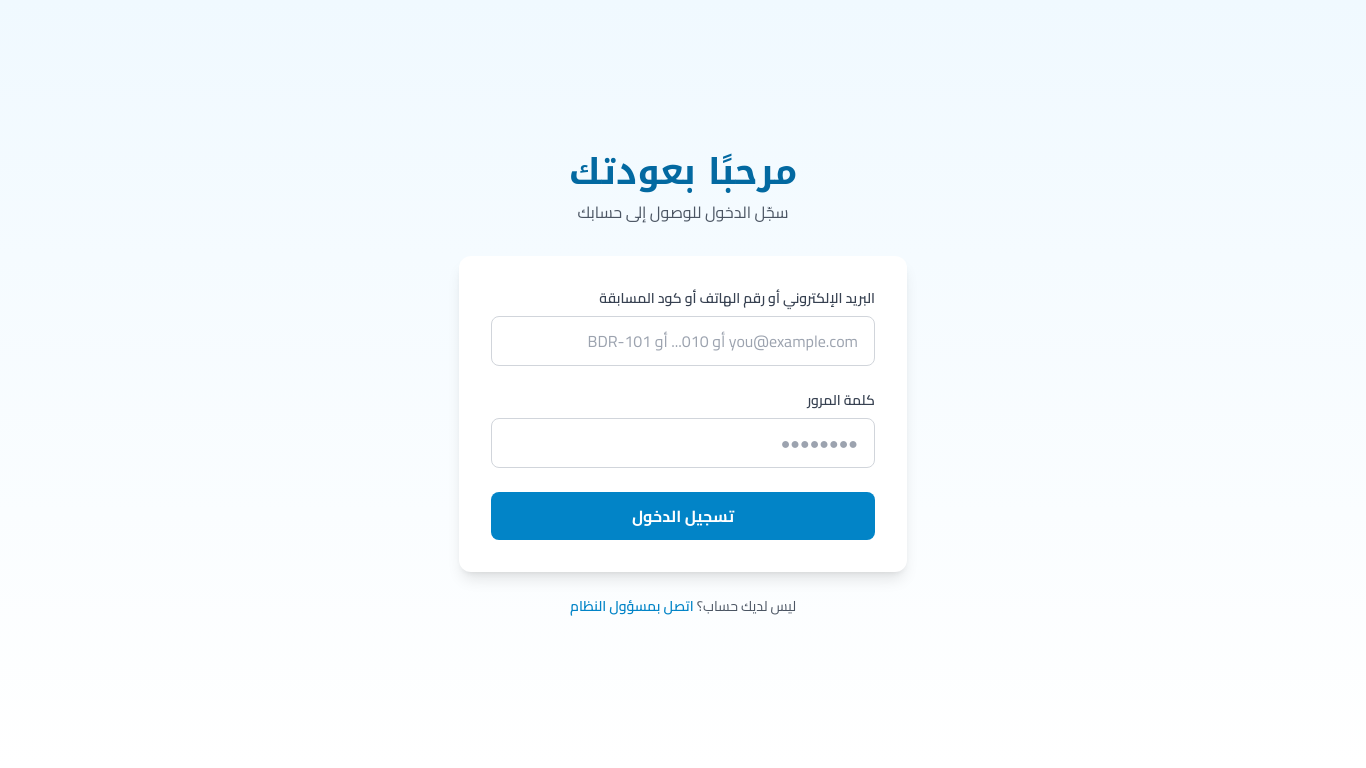
Test case: LoginPage › should display error message on login failure
The width and height of the screenshot is (1366, 768).
Type "wrong@example.com" into the field labelled "البريد الإلكتروني أو رقم الهاتف أو كود المسابقة".
click(683, 341); type("wrong@example.com")  # box [491,316,875,366]
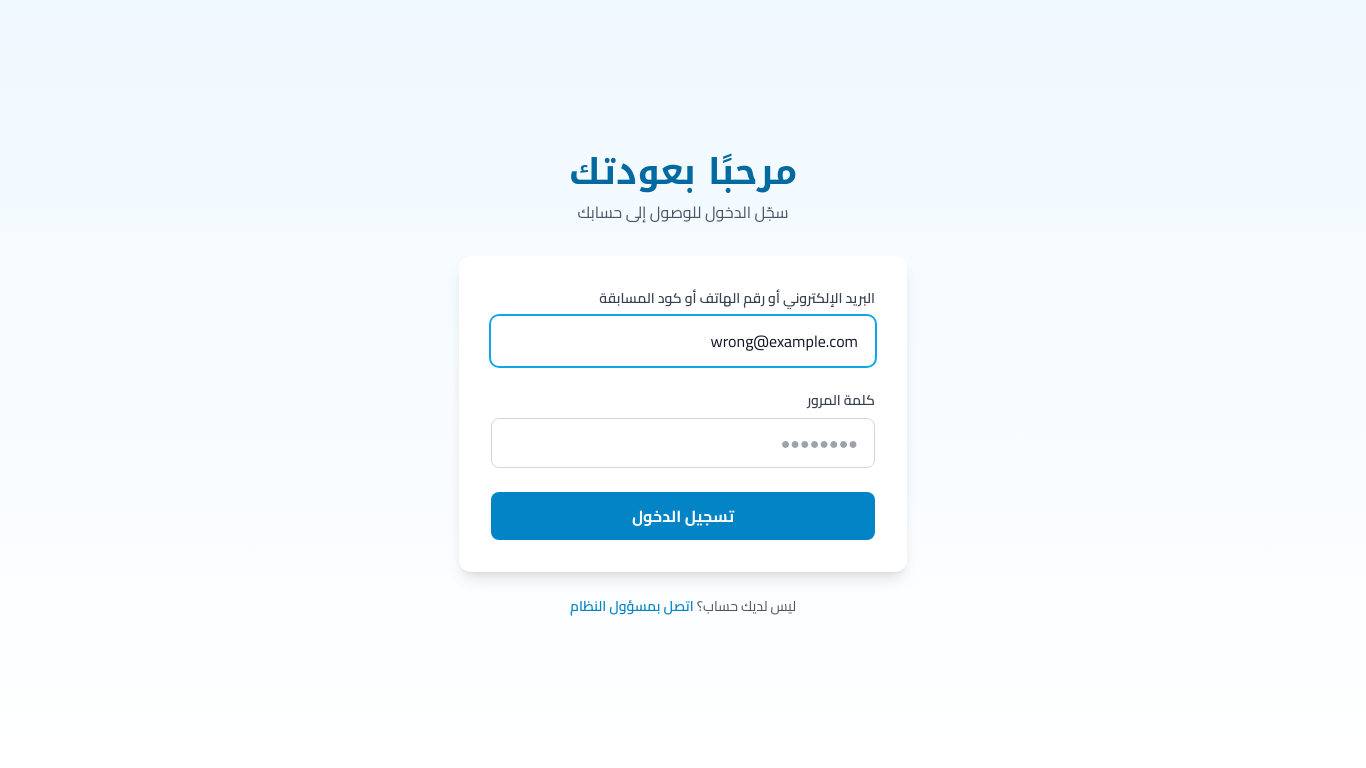
Type "wrongpass" into the password field labelled "كلمة المرور".
click(683, 443); type("wrongpass")  # box [491,418,875,468]
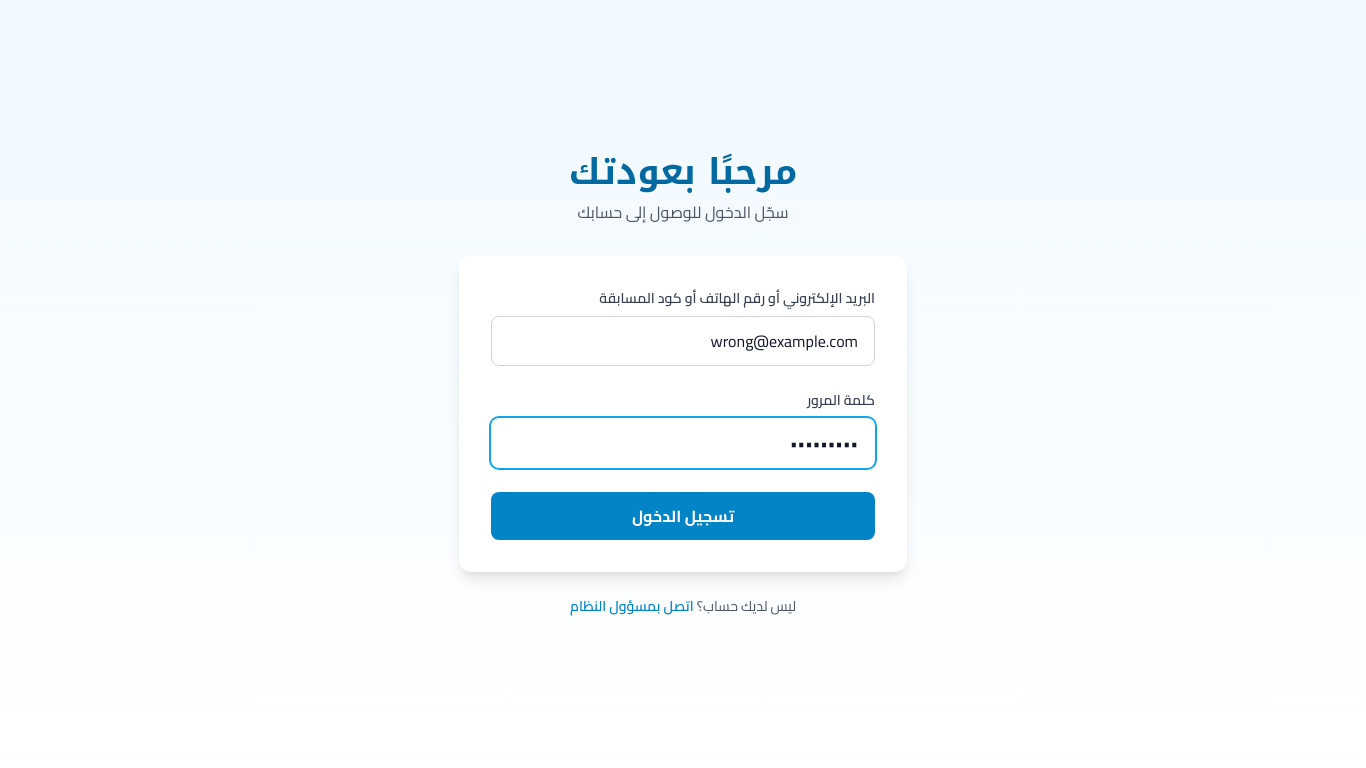
Click the button "تسجيل الدخول".
click(683, 516)  # box [491,492,875,540]
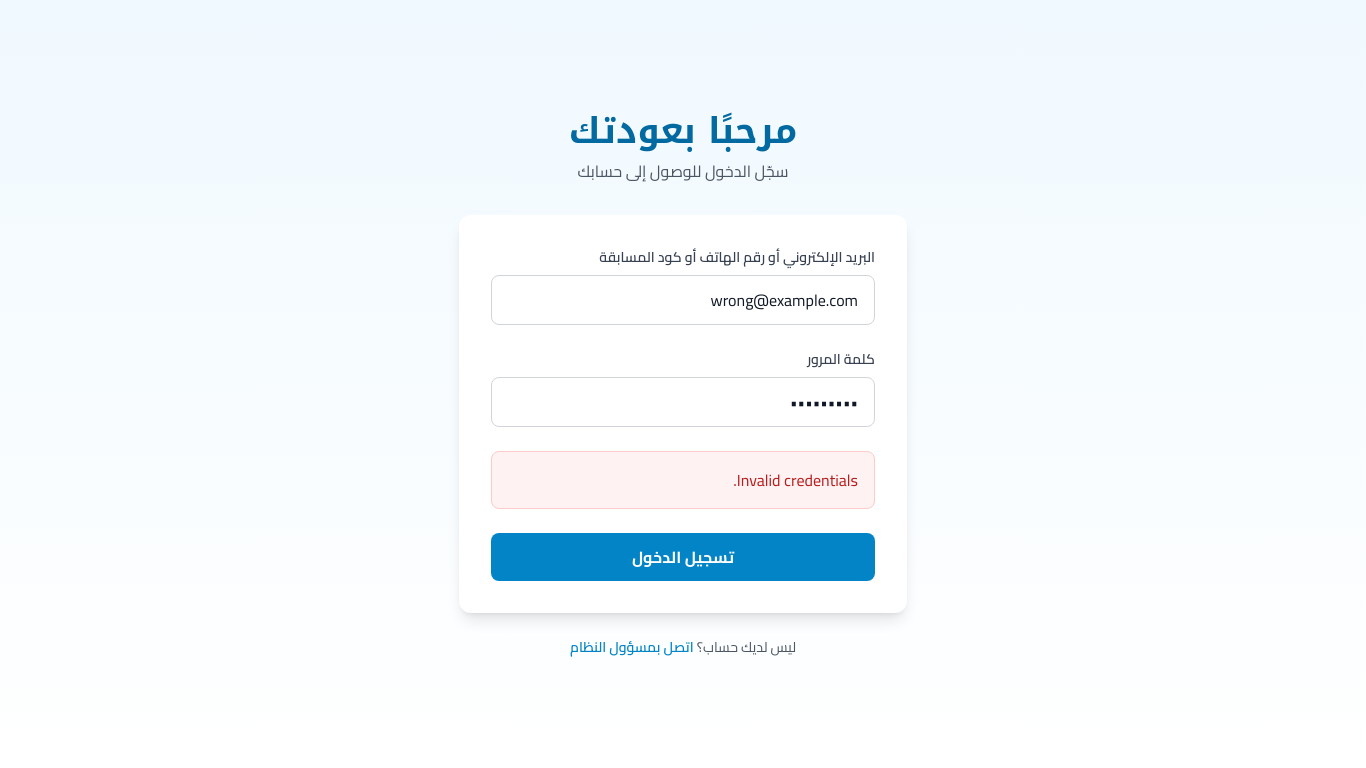
Expected: the text "Invalid credentials." is shown, [733,465,858,495]
